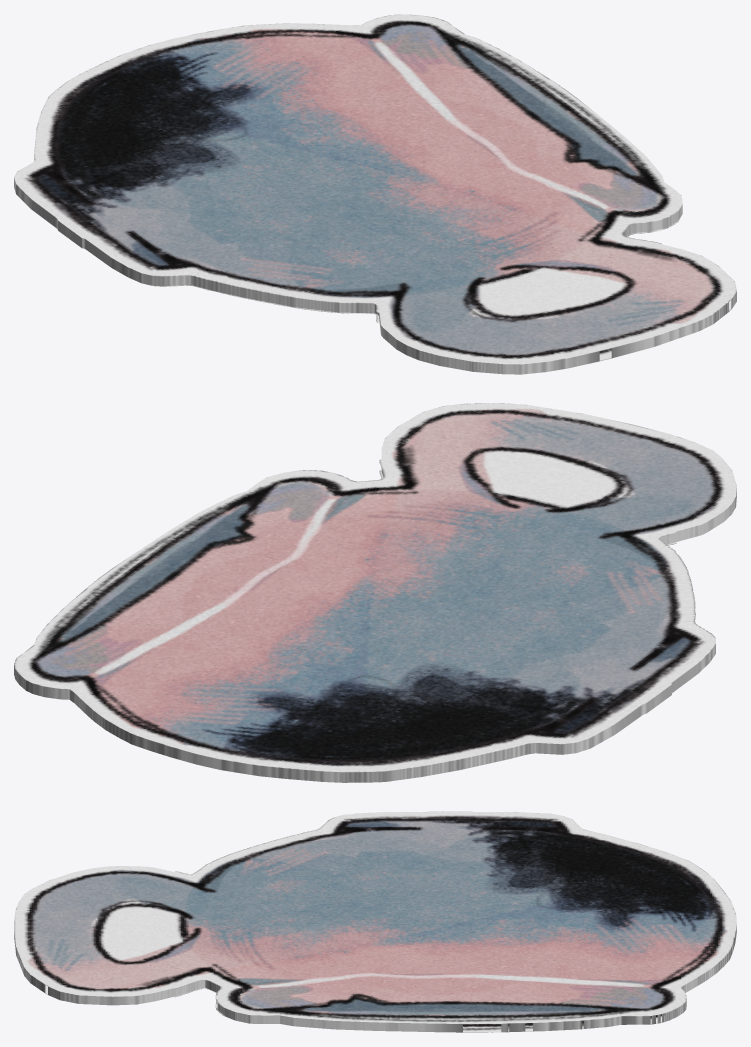
3 views of the same model, one above another, from view 1: azimuth 30°, elevation 25°; view 2: azimuth 150°, elevation 25°; view 3: azimuth 270°, elevation 25° (orthographic). The views are drawn at different scales.
Visible parts, largest first — view 1: 杯子2; view 2: 杯子2; view 3: 杯子2.
Part boxes in pixels (x1,y1,x2,y2): 杯子2: (14,14,736,374); 杯子2: (14,403,736,782); 杯子2: (14,811,736,1032).
Size of the model in its own units: 162 by 3.03 by 233.
Materials: 1 (1 with a texture image).
